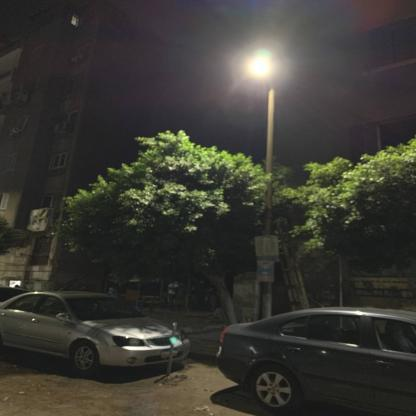light_pole: (250, 59, 275, 322)
